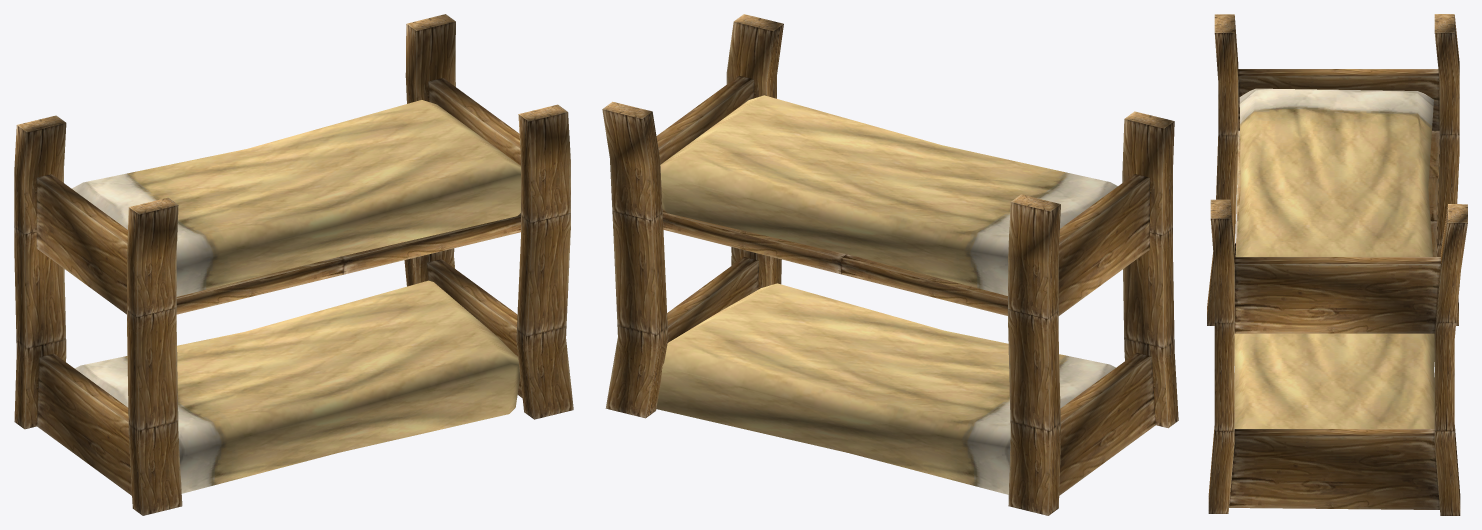
The model's file is bunkbed01.obj.
3 renders of one model, left to right at view 1: azimuth 30°, elevation 25°; view 2: azimuth 150°, elevation 25°; view 3: azimuth 270°, elevation 25°, orthographic. The views are drawn at different scales.
Visible parts, largest first — view 1: 1, 0, 2; view 2: 1, 0, 2; view 3: 0, 1, 2.
Boxes of the visible parts, left/top/right/bottom form: 1: left=71, top=100, right=520, bottom=493; 0: left=14, top=21, right=573, bottom=515; 2: left=17, top=14, right=567, bottom=214; 1: left=656, top=95, right=1117, bottom=494; 0: left=602, top=21, right=1178, bottom=515; 2: left=602, top=14, right=1174, bottom=211; 0: left=1207, top=15, right=1467, bottom=515; 1: left=1234, top=88, right=1434, bottom=428; 2: left=1210, top=14, right=1467, bottom=222.
Size of the model in its own units: 5.27 by 3.45 by 2.78.
Materials: 3 (3 with a texture image).
